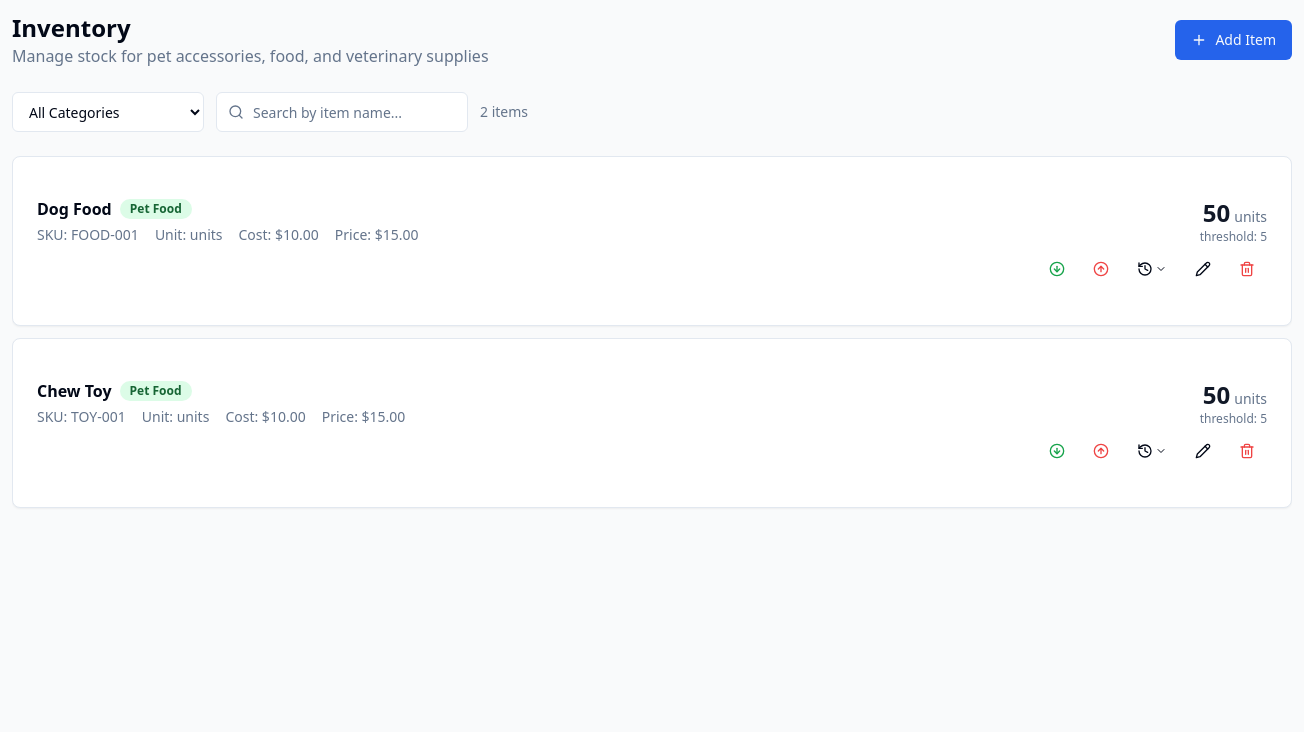
Test: InventoryPage › filters items by name search
This screenshot has width=1304, height=732.
Expected: the text "Dog Food" is shown, [37,197,112,221]
Expected: the text "Chew Toy" is shown, [37,379,112,403]
Type "chew" into the field with placeholder "Search by item name..." at (342, 112), box [216,92,468,132]
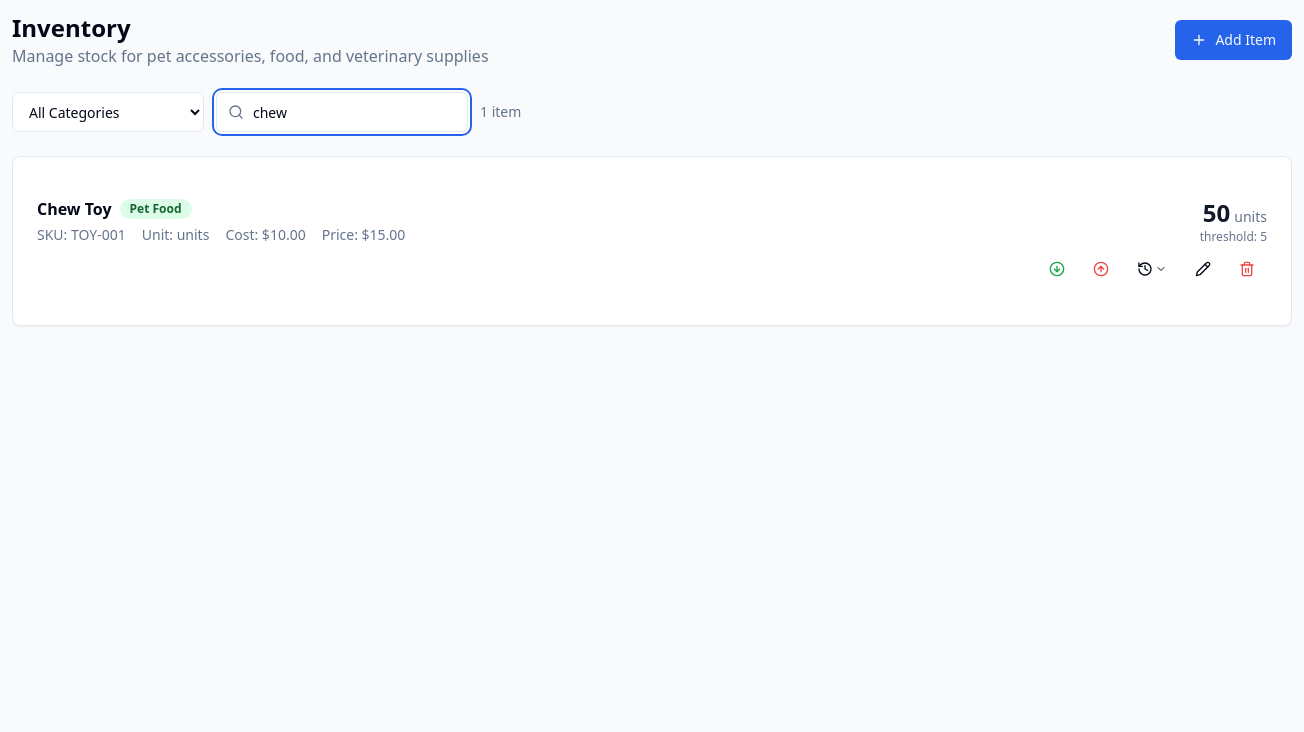
Expected: the text "Chew Toy" is shown, [37,197,112,221]
Expected: the text "Dog Food" is gone
